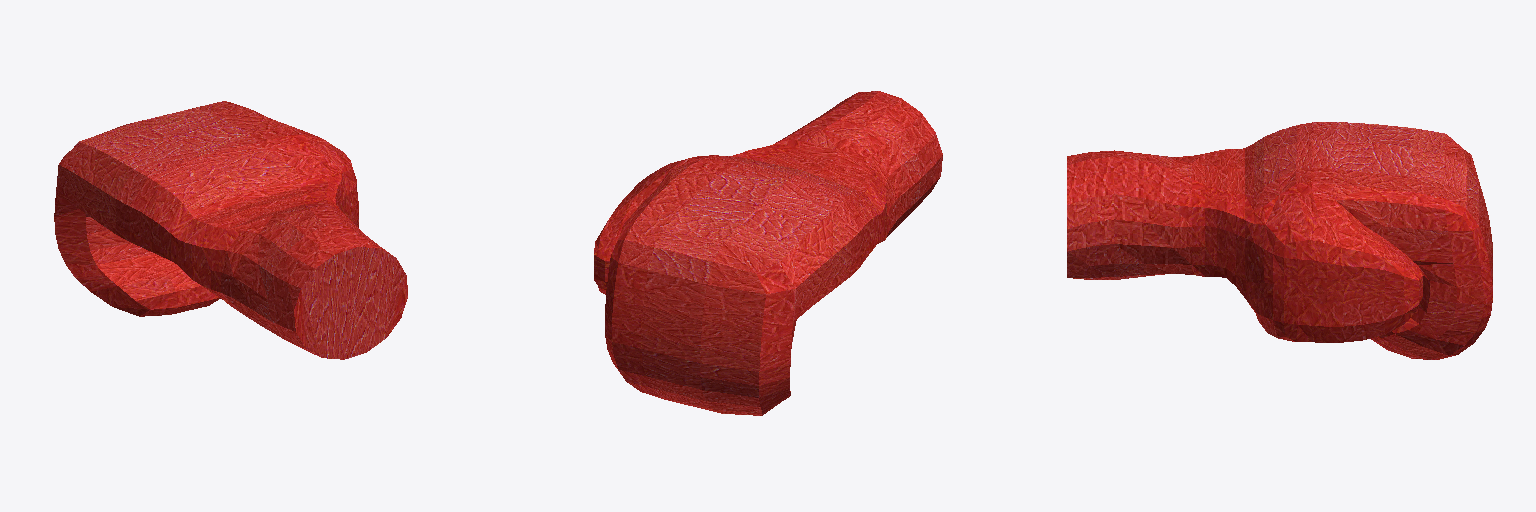
3 renders of one model, left to right at view 1: azimuth 30°, elevation 25°; view 2: azimuth 150°, elevation 25°; view 3: azimuth 270°, elevation 25°, orthographic.
Visible parts, largest first — view 1: mmGroup0; view 2: mmGroup0; view 3: mmGroup0.
Part boxes in pixels (x1,y1,x2,y2): mmGroup0: (54,101,407,359); mmGroup0: (594,91,942,415); mmGroup0: (1067,122,1492,359).
Bounding box in the file's own units: 5.27 × 4.36 × 8.63.
Materials: 1 (1 with a texture image).